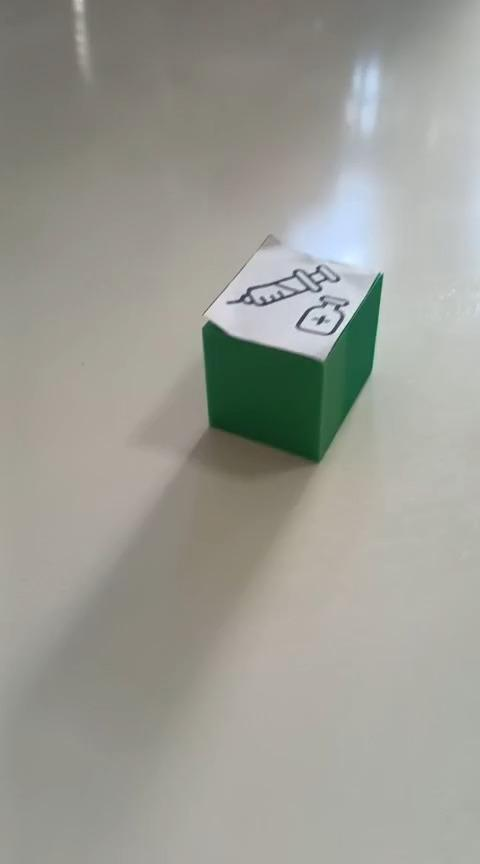antiseptic cream: (199, 231, 384, 463)
